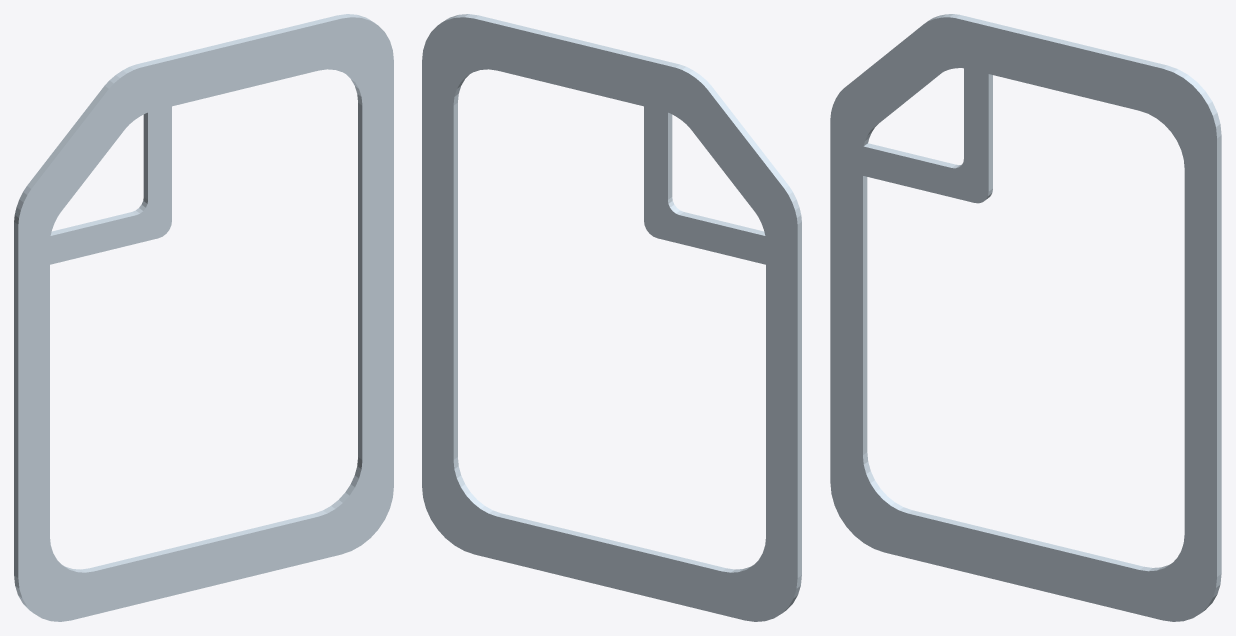
The model's file is File_3D_Icon_01.fbx.
3 renders of one model, left to right at view 1: azimuth 30°, elevation 25°; view 2: azimuth 150°, elevation 25°; view 3: azimuth 330°, elevation 25°, orthographic. The views are drawn at different scales.
Parts seen in each view (by area): view 1: File_3D_Icon_01; view 2: File_3D_Icon_01; view 3: File_3D_Icon_01.
Part boxes in pixels (x1,y1,x2,y2): File_3D_Icon_01: (14, 14, 393, 621); File_3D_Icon_01: (422, 14, 801, 621); File_3D_Icon_01: (830, 14, 1221, 621).
Size of the model in its own units: 99 by 135 by 2.
